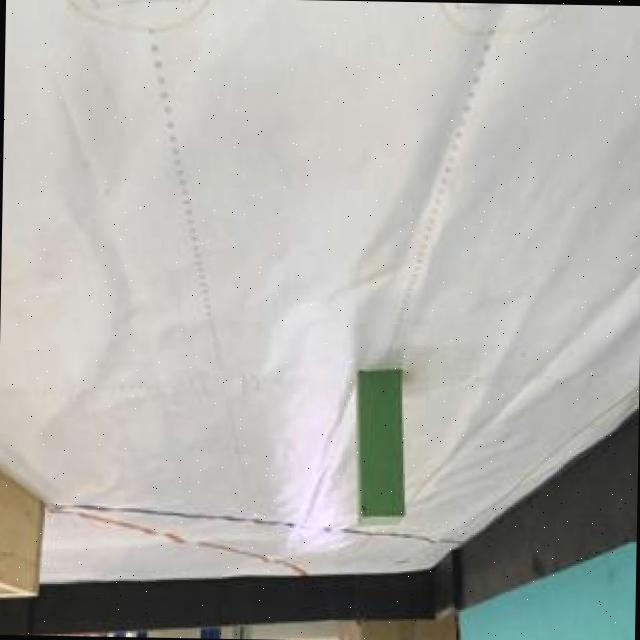greenbox: (355, 368, 406, 523)
